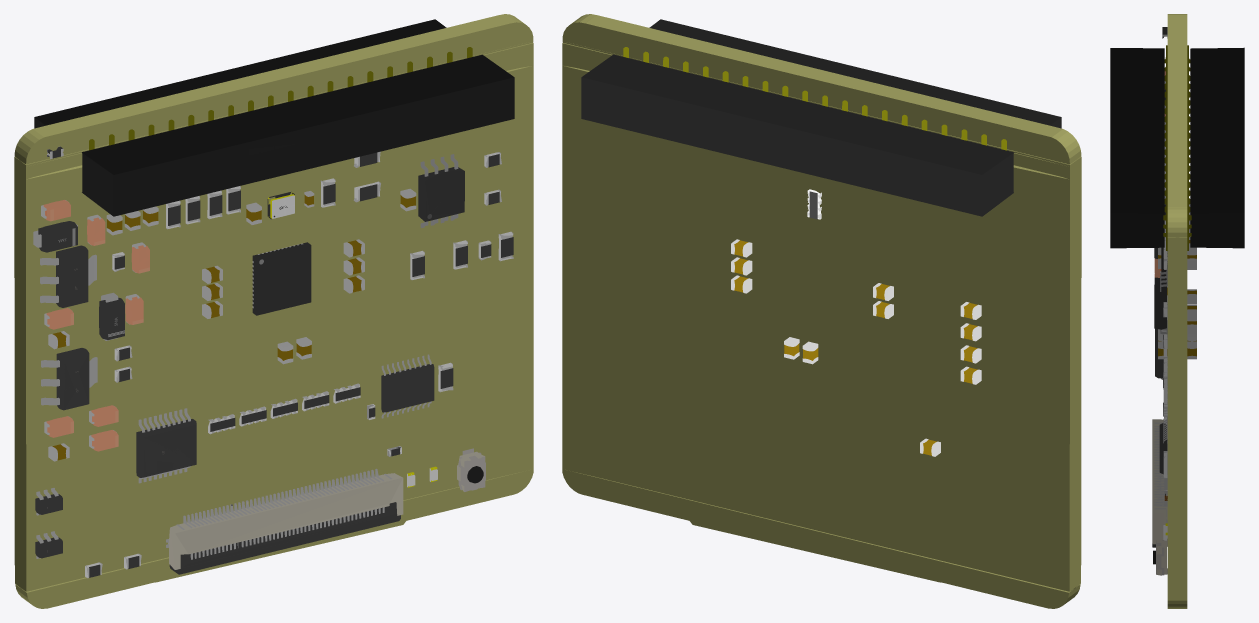
The model's file is OBJ_PCB_iCESDuck-ShieldControler.obj.
The picture shows the model from 3 angles, left to right: view 1: azimuth 30°, elevation 25°; view 2: azimuth 150°, elevation 25°; view 3: azimuth 270°, elevation 25°; orthographic projection. The views are drawn at different scales.
Size of the model in its own units: 255 by 228 by 69.06.
